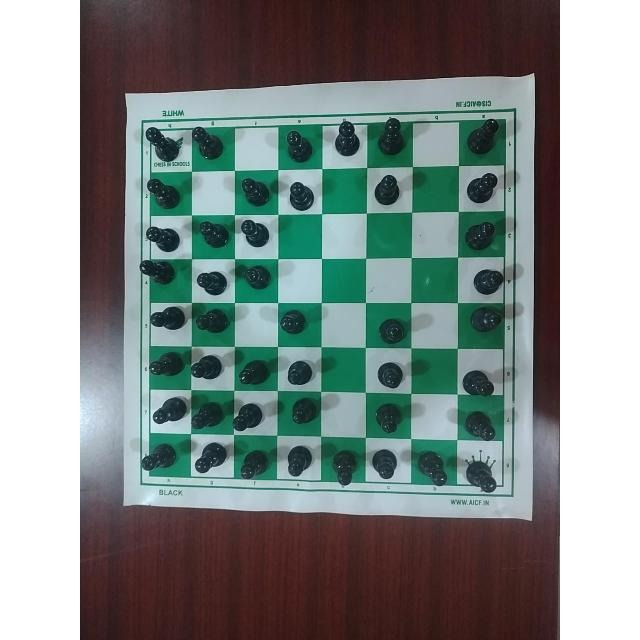black-pawn: (462, 117, 501, 161), (139, 437, 178, 477), (462, 169, 500, 209), (145, 175, 185, 211), (368, 399, 407, 435), (149, 392, 189, 427), (414, 450, 448, 490), (464, 303, 505, 336), (366, 445, 399, 486), (376, 119, 408, 161), (191, 441, 228, 477), (464, 455, 500, 492), (142, 124, 176, 163), (330, 120, 364, 159), (189, 126, 225, 162), (279, 129, 313, 167), (461, 407, 499, 441), (146, 305, 186, 337), (328, 448, 360, 488), (461, 364, 497, 399), (144, 222, 183, 254), (193, 308, 231, 340), (282, 443, 314, 481), (239, 264, 273, 299), (371, 355, 405, 390), (233, 400, 267, 435), (238, 175, 274, 208), (193, 266, 229, 299), (235, 354, 271, 387), (285, 394, 321, 427), (371, 315, 408, 347), (139, 257, 177, 288), (147, 348, 185, 379), (283, 178, 318, 211), (370, 172, 402, 208), (461, 219, 497, 251), (192, 398, 225, 432), (239, 445, 271, 480), (468, 269, 505, 299), (196, 218, 231, 249), (238, 218, 269, 252), (279, 308, 311, 340), (282, 360, 318, 388), (189, 356, 225, 380)
